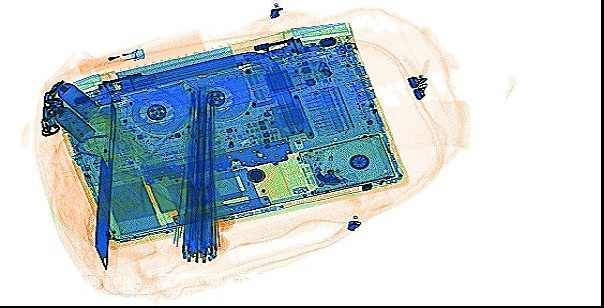knife: (90, 100, 118, 272)
lighter: (74, 44, 144, 75)
